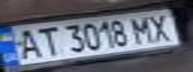0: (81, 20, 100, 51)
1: (96, 18, 115, 50)
3: (60, 21, 84, 53)
8: (109, 17, 133, 47)
A: (9, 26, 45, 61)
M: (127, 14, 160, 44)
T: (30, 24, 63, 57)
X: (142, 11, 178, 42)
